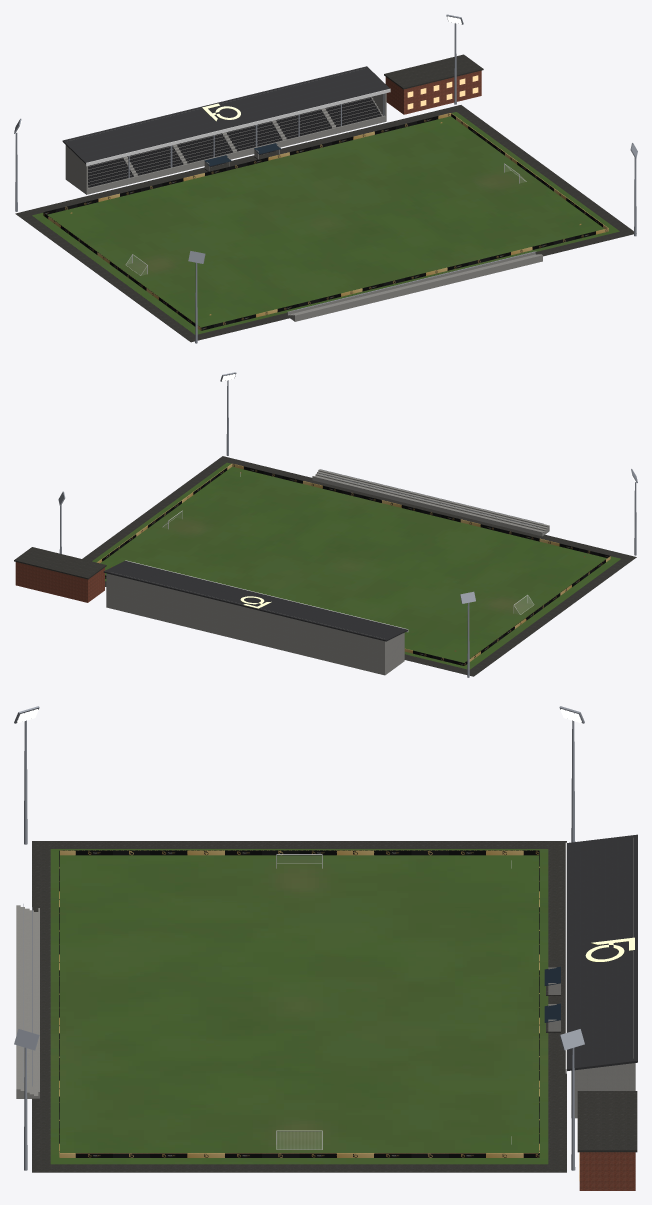
File: terrain_L2.glb
3 views of the same model, one above another, from view 1: azimuth 30°, elevation 25°; view 2: azimuth 150°, elevation 25°; view 3: azimuth 270°, elevation 25° (orthographic). The views are drawn at different scales.
Parts seen in each view (by area): view 1: pitch_L2_L2, concrete_dark_L2, roof_L2, concrete_L2, seats_L2, boards_L2, brick_L2, steel_L2, white_L2, emissive_windows_L2; view 2: pitch_L2_L2, concrete_L2, concrete_dark_L2, roof_L2, boards_L2, brick_L2, steel_L2, white_L2; view 3: pitch_L2_L2, concrete_dark_L2, roof_L2, concrete_L2, boards_L2, steel_L2, brick_L2, net_L2, white_L2.
Boxes of the visible parts, <box> form: pitch_L2_L2: <box>32,112,619,334</box>; concrete_dark_L2: <box>15,54,633,342</box>; roof_L2: <box>62,66,389,163</box>; concrete_L2: <box>65,68,542,321</box>; seats_L2: <box>88,97,381,187</box>; boards_L2: <box>43,113,608,330</box>; brick_L2: <box>385,70,481,114</box>; steel_L2: <box>14,14,637,343</box>; white_L2: <box>86,88,526,275</box>; emissive_windows_L2: <box>407,75,478,109</box>; pitch_L2_L2: <box>92,462,620,669</box>; concrete_L2: <box>106,469,549,675</box>; concrete_dark_L2: <box>14,456,636,676</box>; roof_L2: <box>103,561,407,641</box>; boards_L2: <box>97,463,610,665</box>; brick_L2: <box>15,562,104,602</box>; steel_L2: <box>58,372,637,677</box>; white_L2: <box>125,472,534,632</box>; pitch_L2_L2: <box>50,849,548,1164</box>; concrete_dark_L2: <box>32,841,637,1172</box>; roof_L2: <box>567,834,637,1070</box>; concrete_L2: <box>16,838,635,1118</box>; boards_L2: <box>59,850,539,1157</box>; steel_L2: <box>14,706,584,1170</box>; brick_L2: <box>579,1152,635,1190</box>; net_L2: <box>277,855,321,1149</box>; white_L2: <box>276,842,566,1149</box>.
Bounding box in the file's own units: 134 × 24.2 × 100.
Materials: 15 (8 with a texture image).
